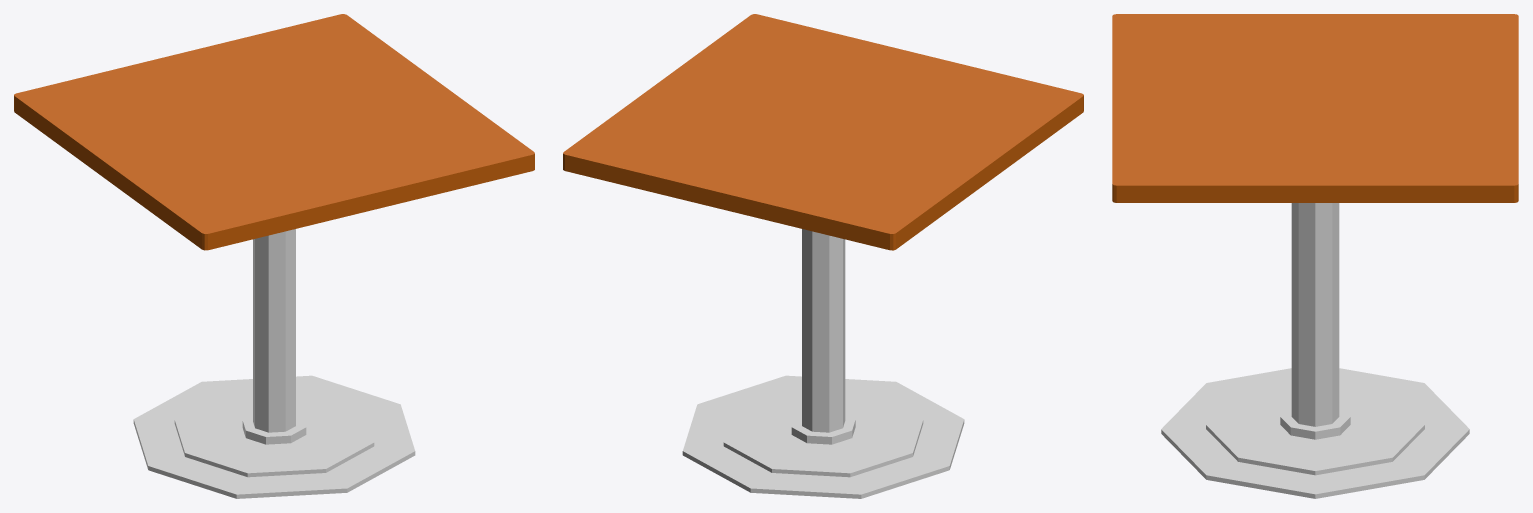
The model's file is C_Table.fbx.
3 renders of one model, left to right at view 1: azimuth 30°, elevation 25°; view 2: azimuth 150°, elevation 25°; view 3: azimuth 270°, elevation 25°, orthographic. The views are drawn at different scales.
Visible parts, largest first — view 1: C_Table; view 2: C_Table; view 3: C_Table.
Part boxes in pixels (<box>): C_Table: <box>14,14,534,498</box>; C_Table: <box>563,14,1083,498</box>; C_Table: <box>1112,14,1518,498</box>.
Bounding box in the file's own units: 679 × 679 × 616.
